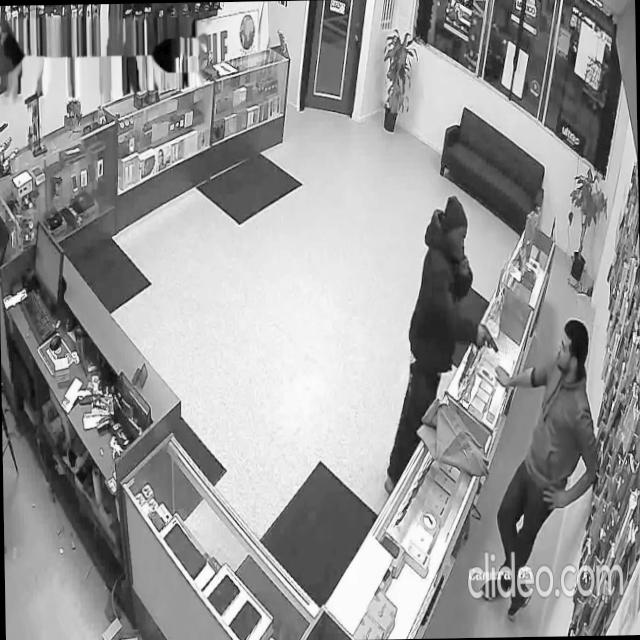gun: (481, 318, 500, 354)
person: (476, 315, 605, 620)
person with a gun: (380, 192, 500, 496)
